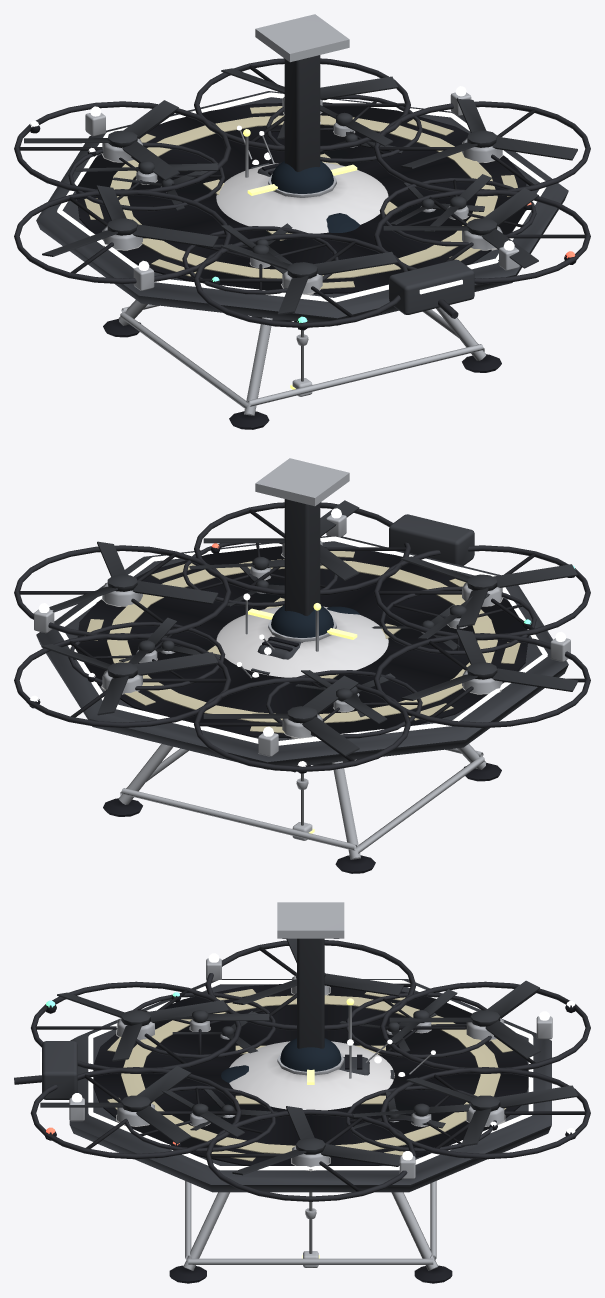
Rendered from drones320.glb.
The picture shows the model from 3 angles, top to bottom: view 1: azimuth 30°, elevation 25°; view 2: azimuth 150°, elevation 25°; view 3: azimuth 270°, elevation 25°; orthographic projection. The views are drawn at different scales.
Visible parts, largest first — view 1: d320_pad-dark, d320_hex-carbon, d320_pad-comp, d320_pad-padp, d320_hex-steel, d320_hex-paint, d320_pq-carbon, d320_leg-comp, d320_pad-ledt, d320_leg-steel, d320_hex-fan4, d320_hex-fan5 (+13 smaller); view 2: d320_pad-dark, d320_hex-carbon, d320_pad-comp, d320_hex-steel, d320_pad-padp, d320_hex-paint, d320_pq-carbon, d320_leg-comp, d320_pad-ledt, d320_leg-steel, d320_hex-fan2, d320_hex-fan4 (+11 smaller); view 3: d320_pad-dark, d320_hex-carbon, d320_pad-comp, d320_pad-padp, d320_hex-steel, d320_hex-paint, d320_pq-carbon, d320_pad-ledt, d320_leg-comp, d320_leg-steel, d320_hex-fan2, d320_hex-fan3 (+14 smaller).
Boxes of the visible parts, bbox=[...] form: d320_pad-dark: bbox=[76, 102, 526, 294]; d320_hex-carbon: bbox=[14, 58, 590, 327]; d320_pad-comp: bbox=[36, 91, 568, 325]; d320_pad-padp: bbox=[84, 106, 517, 289]; d320_hex-steel: bbox=[102, 97, 502, 415]; d320_hex-paint: bbox=[216, 162, 388, 233]; d320_pq-carbon: bbox=[68, 94, 536, 294]; d320_leg-comp: bbox=[284, 55, 320, 171]; d320_pad-ledt: bbox=[57, 92, 546, 302]; d320_leg-steel: bbox=[255, 14, 349, 62]; d320_hex-fan4: bbox=[42, 185, 218, 256]; d320_hex-fan5: bbox=[221, 244, 397, 315]; d320_pad-dark: bbox=[76, 546, 528, 738]; d320_hex-carbon: bbox=[14, 502, 590, 771]; d320_pad-comp: bbox=[36, 514, 568, 769]; d320_hex-steel: bbox=[102, 541, 502, 859]; d320_pad-padp: bbox=[87, 551, 520, 733]; d320_hex-paint: bbox=[216, 606, 388, 677]; d320_pq-carbon: bbox=[68, 543, 536, 738]; d320_leg-comp: bbox=[284, 499, 320, 615]; d320_pad-ledt: bbox=[58, 536, 547, 745]; d320_leg-steel: bbox=[255, 458, 349, 506]; d320_hex-fan2: bbox=[41, 644, 218, 715]; d320_hex-fan4: bbox=[401, 629, 577, 700]; d320_pad-dark: bbox=[93, 984, 528, 1165]; d320_hex-carbon: bbox=[30, 940, 590, 1201]; d320_pad-comp: bbox=[42, 979, 551, 1192]; d320_pad-padp: bbox=[107, 989, 512, 1161]; d320_hex-steel: bbox=[117, 975, 504, 1270]; d320_hex-paint: bbox=[229, 1041, 394, 1110]; d320_pq-carbon: bbox=[125, 992, 496, 1152]; d320_pad-ledt: bbox=[40, 980, 533, 1170]; d320_leg-comp: bbox=[297, 938, 324, 1048]; d320_leg-steel: bbox=[277, 902, 344, 938]; d320_hex-fan2: bbox=[406, 1077, 578, 1146]; d320_hex-fan3: bbox=[389, 980, 540, 1058].
Size of the model in its own units: 3.11 by 1.95 by 2.92.
